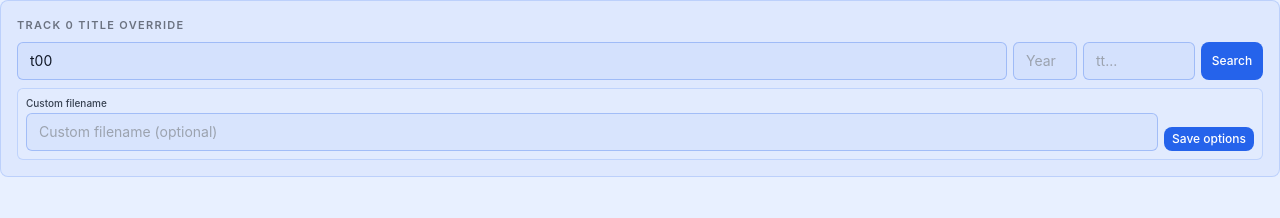
Scenario: TrackTitleSearch › interactions › shows the no-results message without a "Set manually" button
Replace the text in the field with placeholder "Title..." with "Nope". click: (512, 60)
box: [17,42,1007,80]
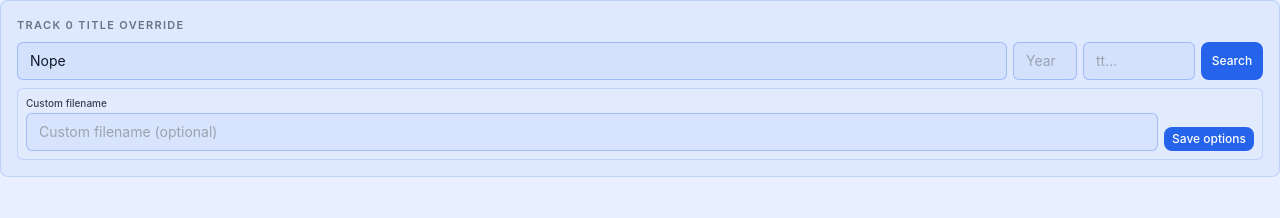
Click the button "Search". click: (1232, 60)
box: [1201,42,1263,80]
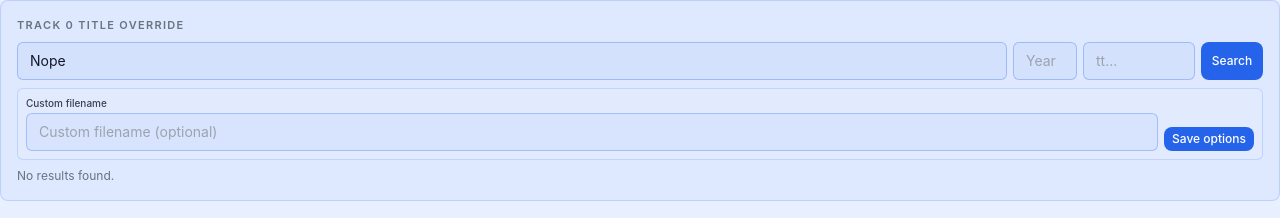
Check: the text "No results found." is shown, box [17,168,114,184]
